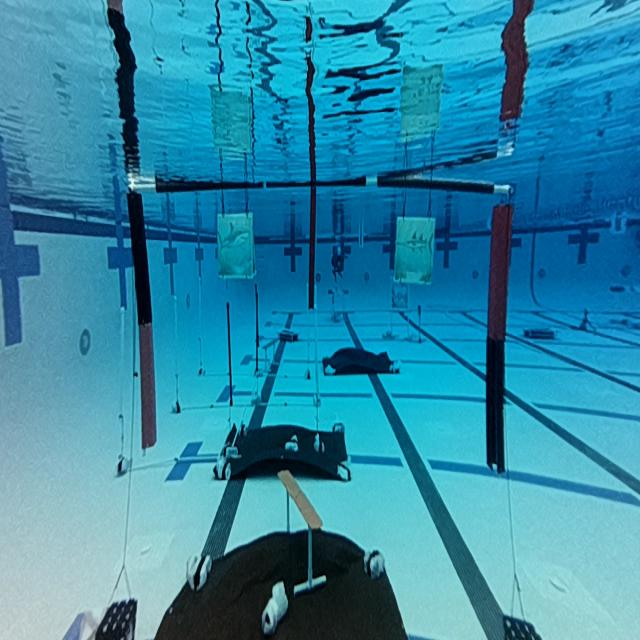pointed_nose: (394, 217, 434, 287)
round_nose: (217, 213, 254, 286)
